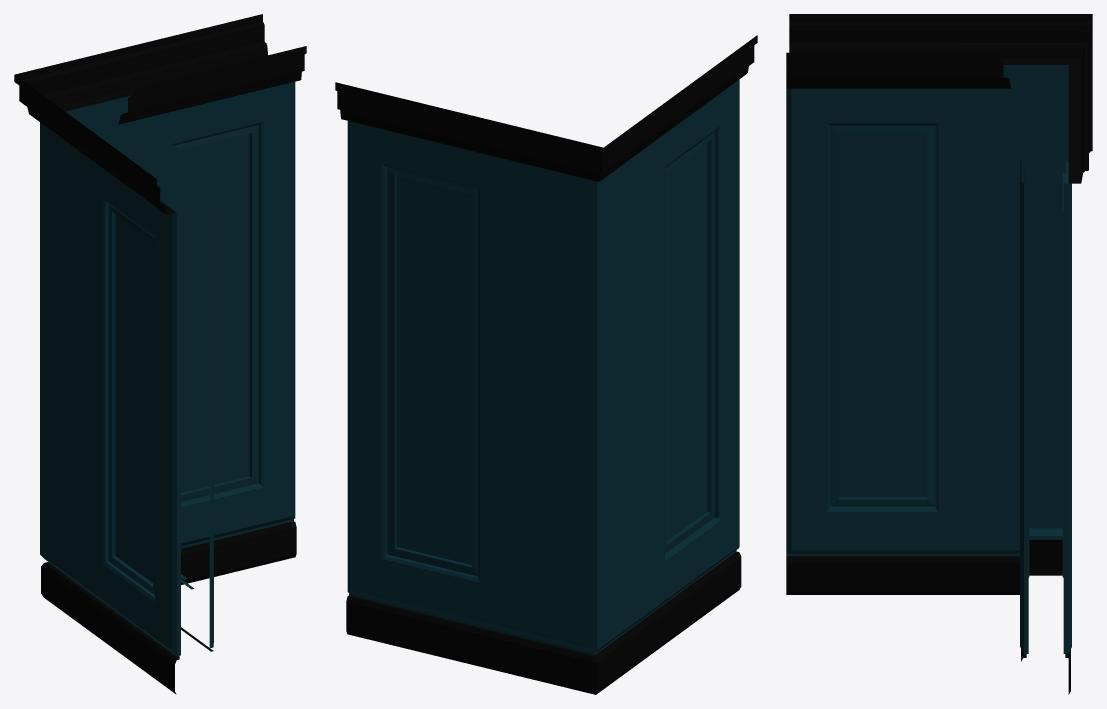
The model's file is SM_Wall_Corner.fbx.
3 views of the same model, side by side, from view 1: azimuth 30°, elevation 25°; view 2: azimuth 150°, elevation 25°; view 3: azimuth 270°, elevation 25° (orthographic). The views are drawn at different scales.
Visible parts, largest first — view 1: polySurface85; view 2: polySurface85; view 3: polySurface85.
Boxes of the visible parts, x1,y1,x2,y2 form: polySurface85: (14, 14, 306, 694); polySurface85: (335, 35, 757, 694); polySurface85: (786, 14, 1092, 694).
Bounding box in the file's own units: 162 × 324 × 163.
